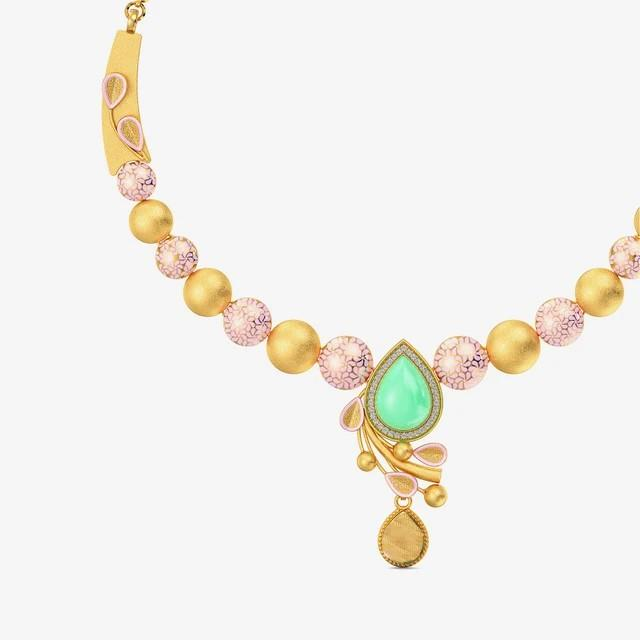missing gem: (382, 511, 424, 564)
